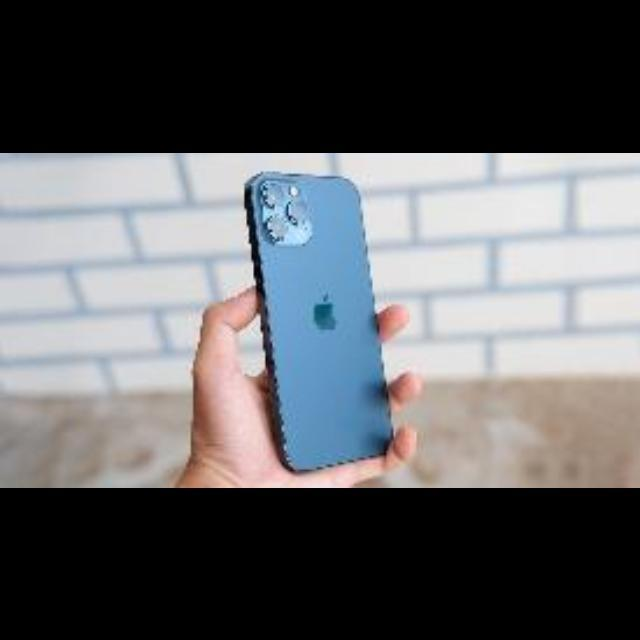Phone: (240, 170, 394, 460)
